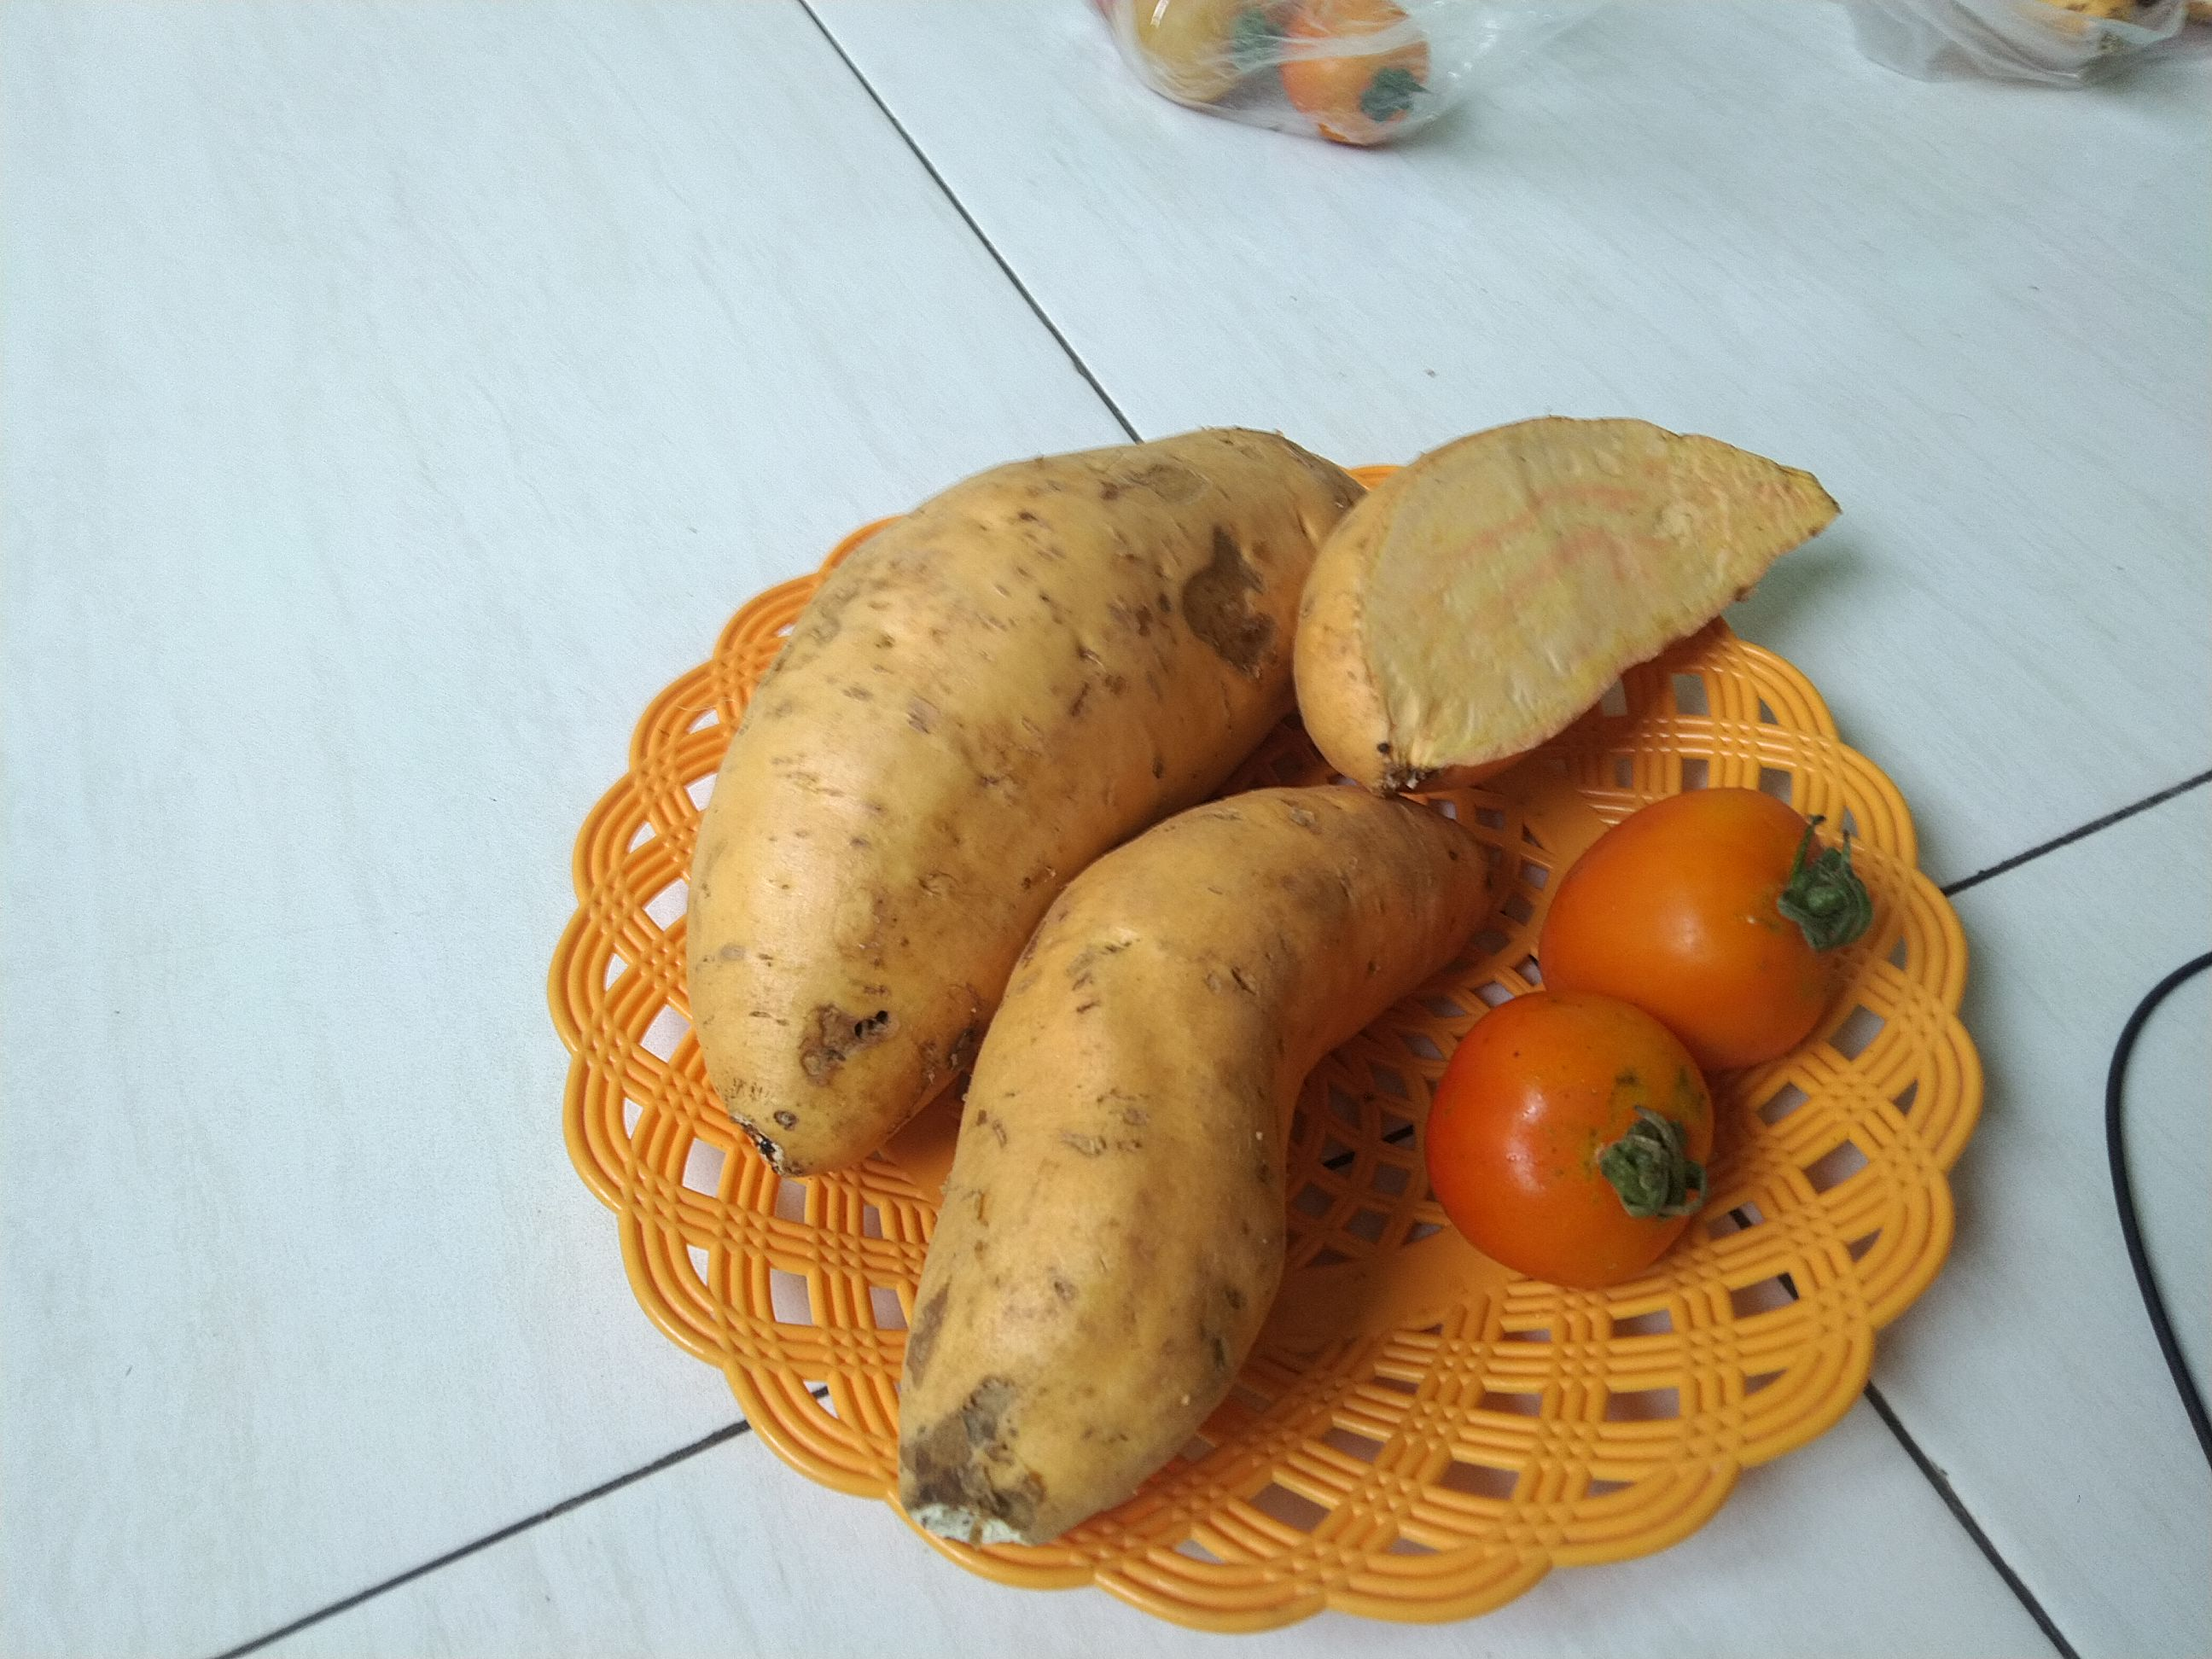ubi cilembu: (693, 404, 1393, 1168), (887, 786, 1494, 1568), (1280, 415, 1855, 795)
